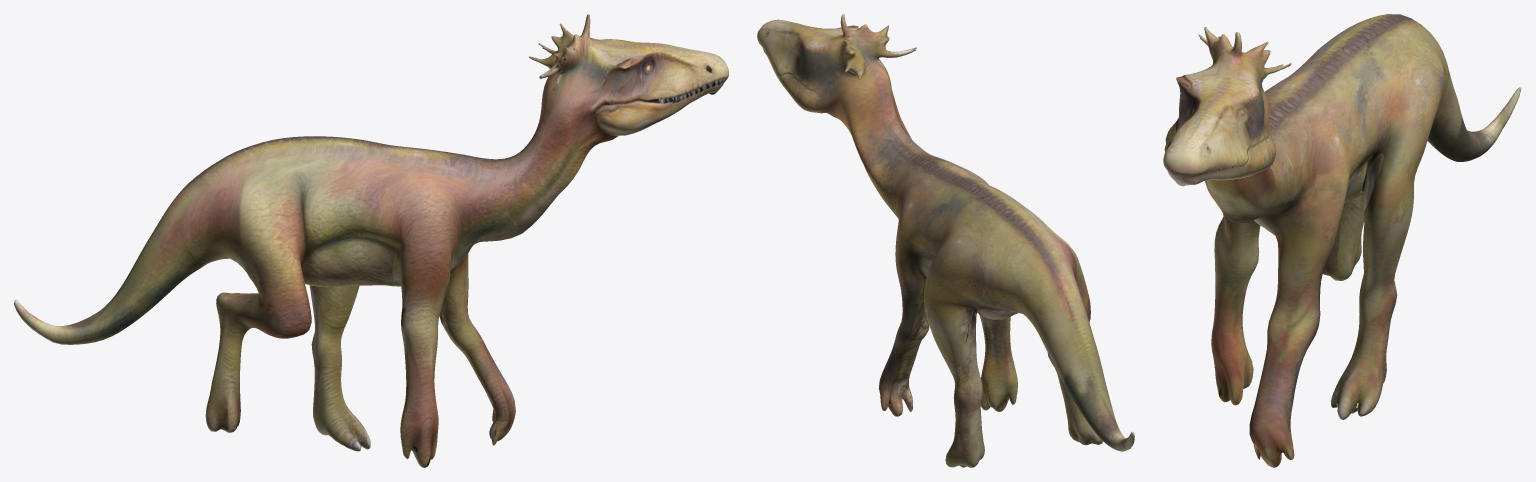
The picture shows the model from 3 angles, left to right: view 1: azimuth 30°, elevation 25°; view 2: azimuth 150°, elevation 25°; view 3: azimuth 270°, elevation 25°; orthographic projection. The views are drawn at different scales.
Parts seen in each view (by area): view 1: Mesh0.001; view 2: Mesh0.001; view 3: Mesh0.001.
Part boxes in pixels (x1,y1,x2,y2): Mesh0.001: (14,14,728,467); Mesh0.001: (757,14,1134,467); Mesh0.001: (1163,14,1521,467).
Size of the model in its own units: 0.0774 by 0.0558 by 0.0374.
1 material, 1 textured.
